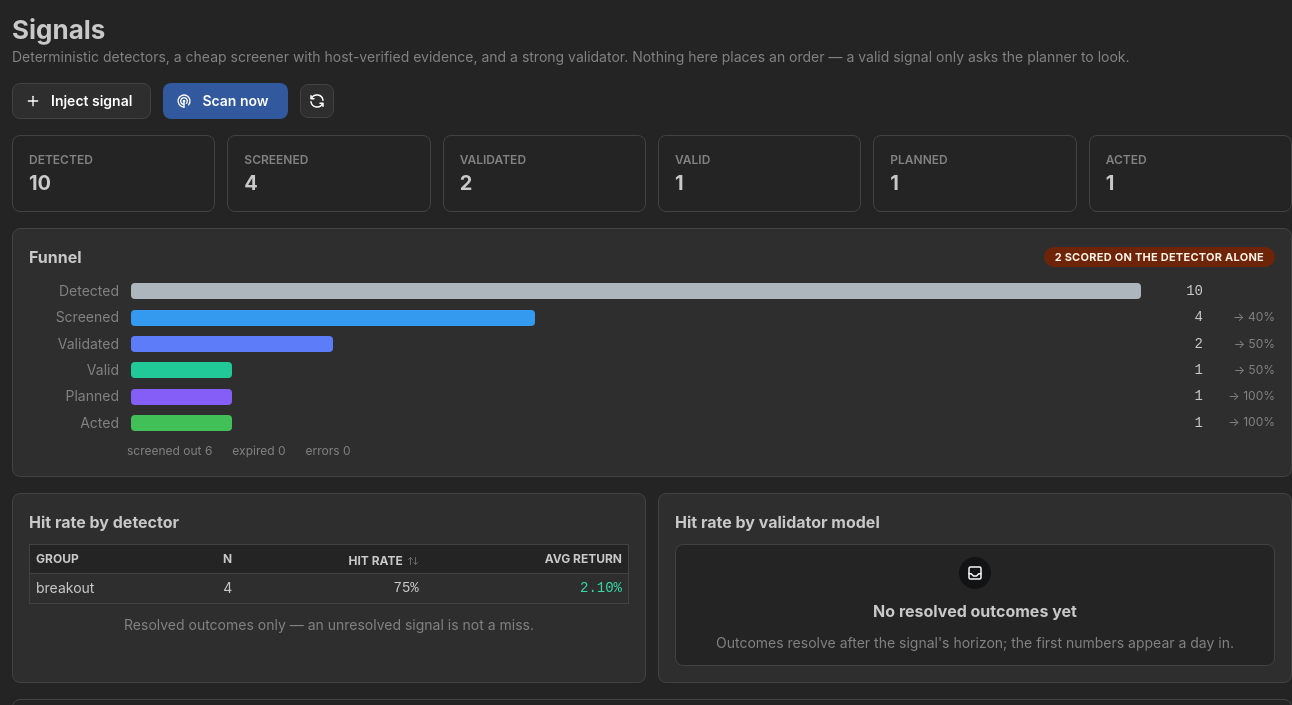
Test case: SignalsPage › says so when the scan could not be spawned
The width and height of the screenshot is (1292, 705).
Click the button "Scan now".
click(226, 101)  # box [163,83,288,119]
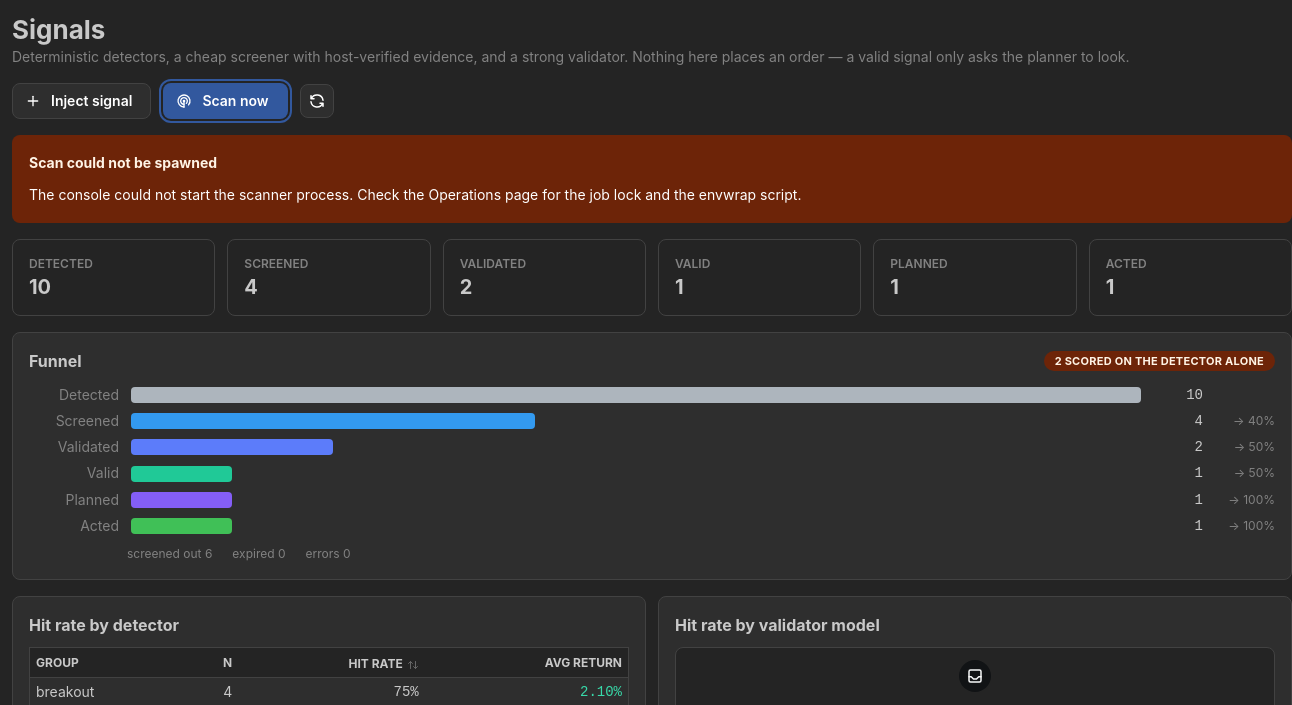
Expected: the text "Scan could not be spawned" is shown, [29,152,217,174]
